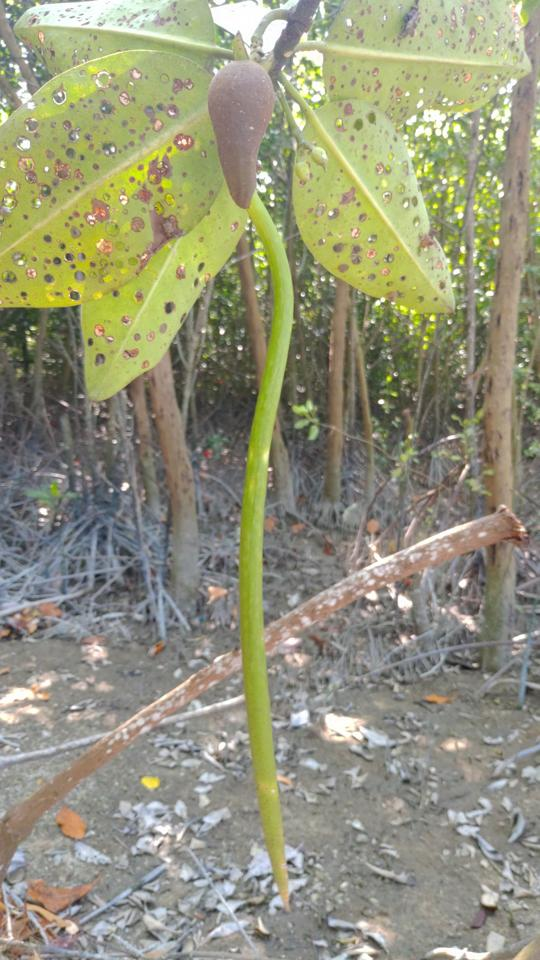mentah: (190, 25, 339, 916)
